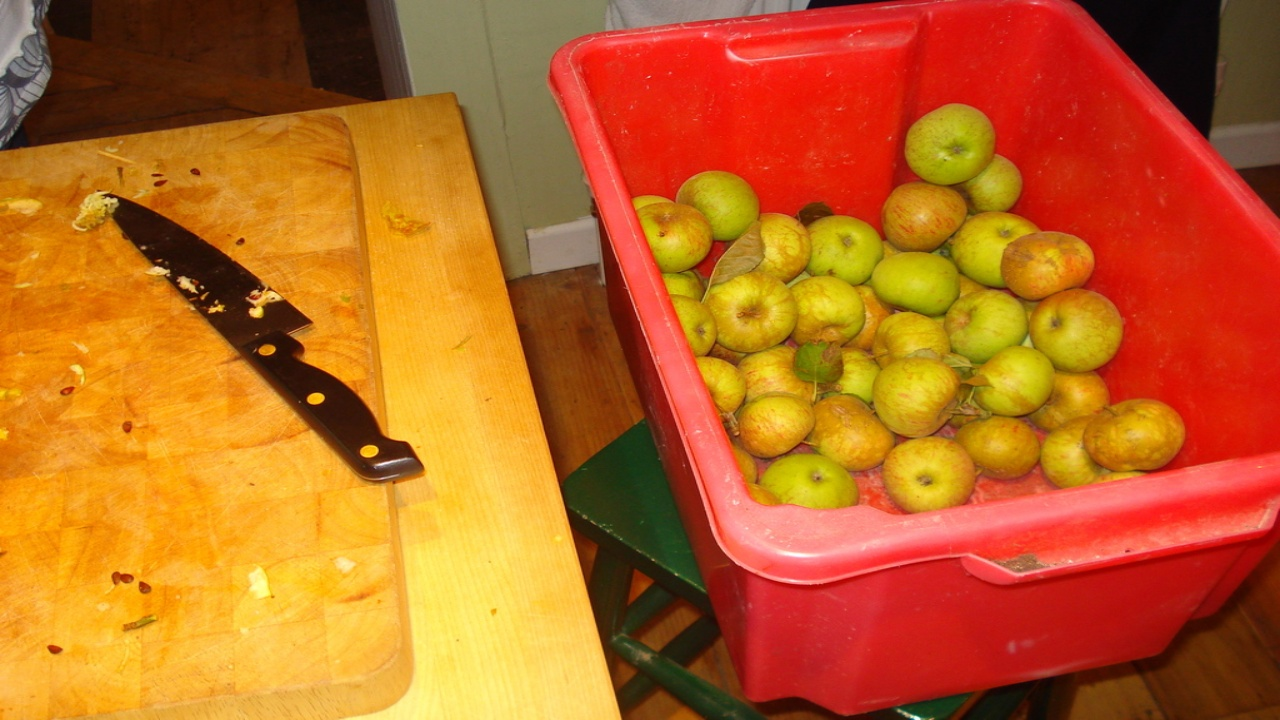apple: (753, 213, 1156, 488)
